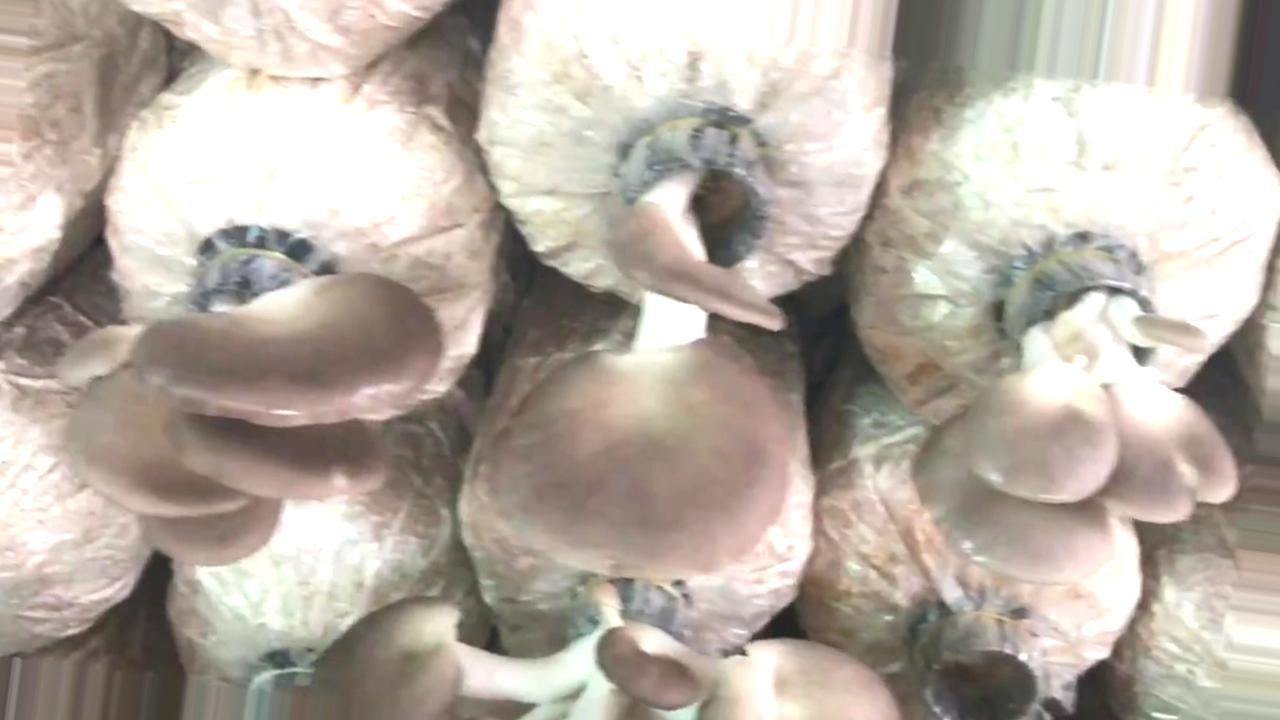nam: (491, 105, 795, 585), (55, 241, 443, 566), (917, 242, 1245, 593), (303, 578, 900, 720)
